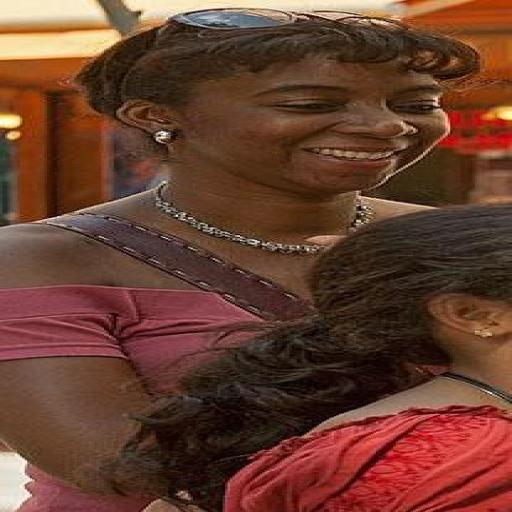person: (0, 9, 479, 511), (109, 205, 511, 511)
